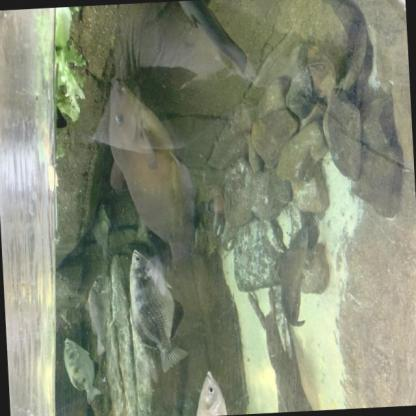fish: (106, 76, 198, 270), (126, 248, 190, 377), (170, 0, 249, 80), (62, 335, 104, 407), (83, 274, 114, 356), (191, 368, 231, 416)
